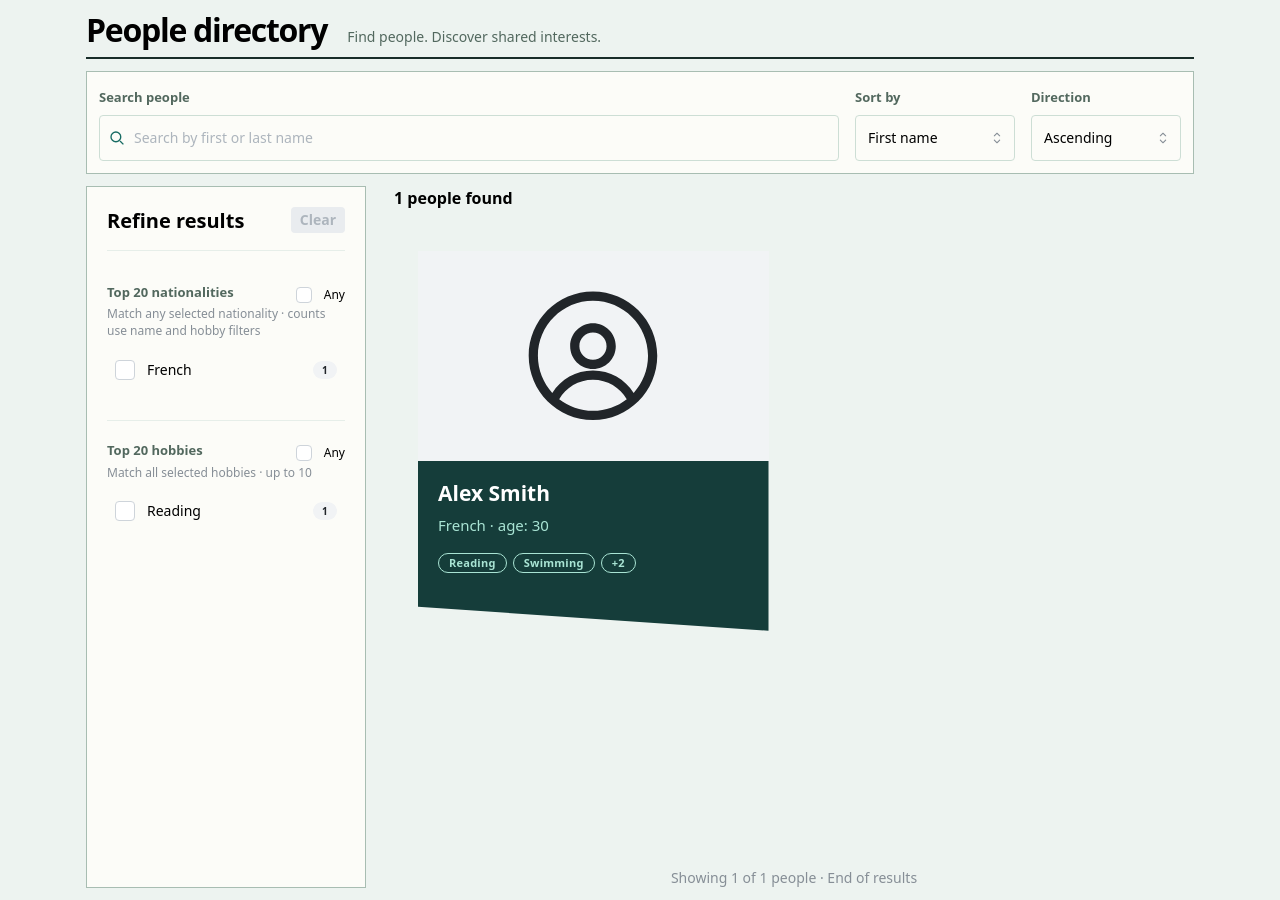
Test: Any clears only its filter group and collapses the options
The width and height of the screenshot is (1280, 900).
Expected: the element showing "Alex Smith French · age: 30 Reading Swimming +2" is shown, [418,251,768,631]
Expected: the checkbox named "Any nationality" is not checked, [296,287,312,303]
Click the checkbox labelled "French".
click(125, 370)  # box [115,360,135,380]
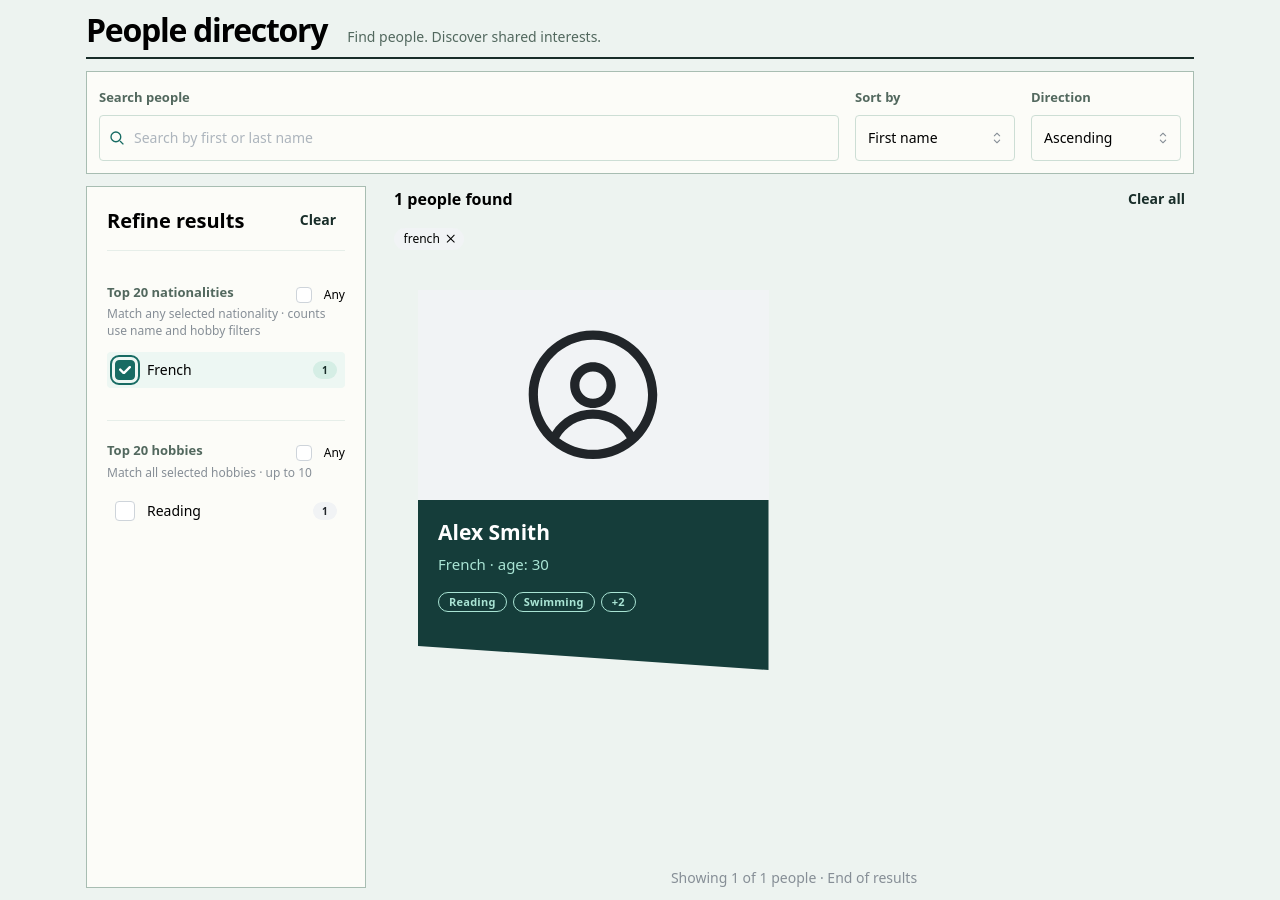
Click the checkbox labelled "Reading".
click(125, 511)  # box [115,501,135,521]
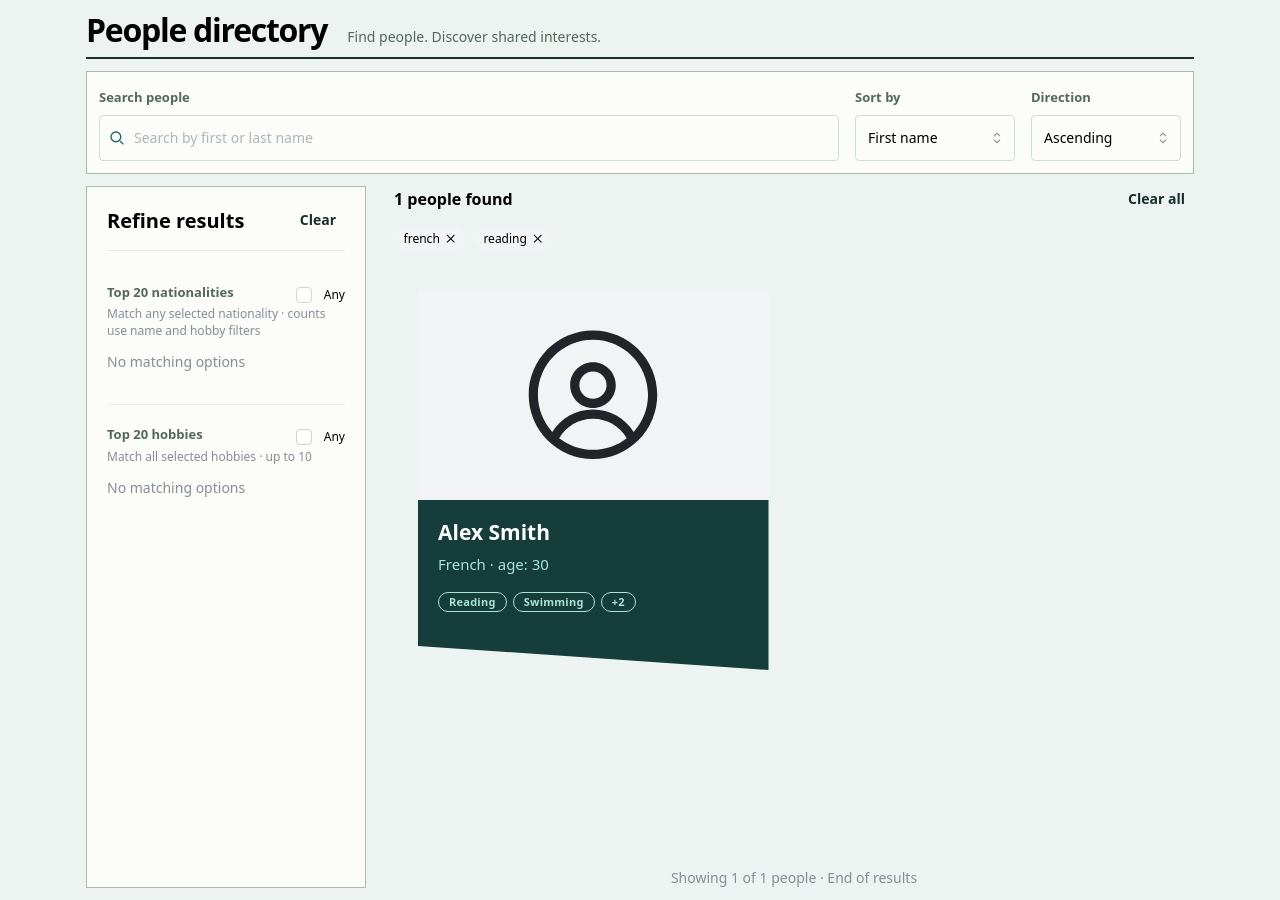
Click the checkbox named "Any hobbies".
click(304, 437)  # box [296,429,312,445]
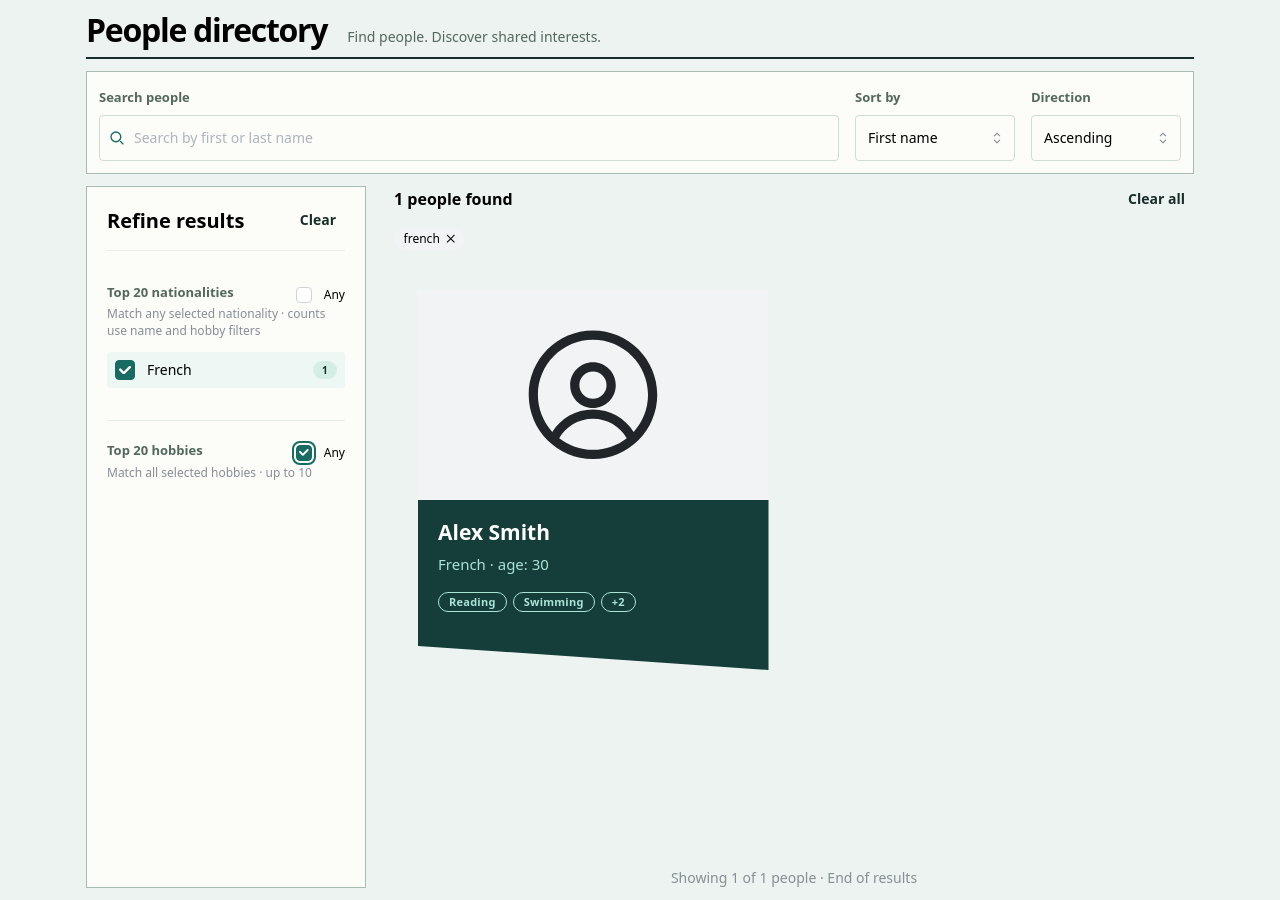
Click the checkbox named "Any nationality".
click(304, 295)  # box [296,287,312,303]
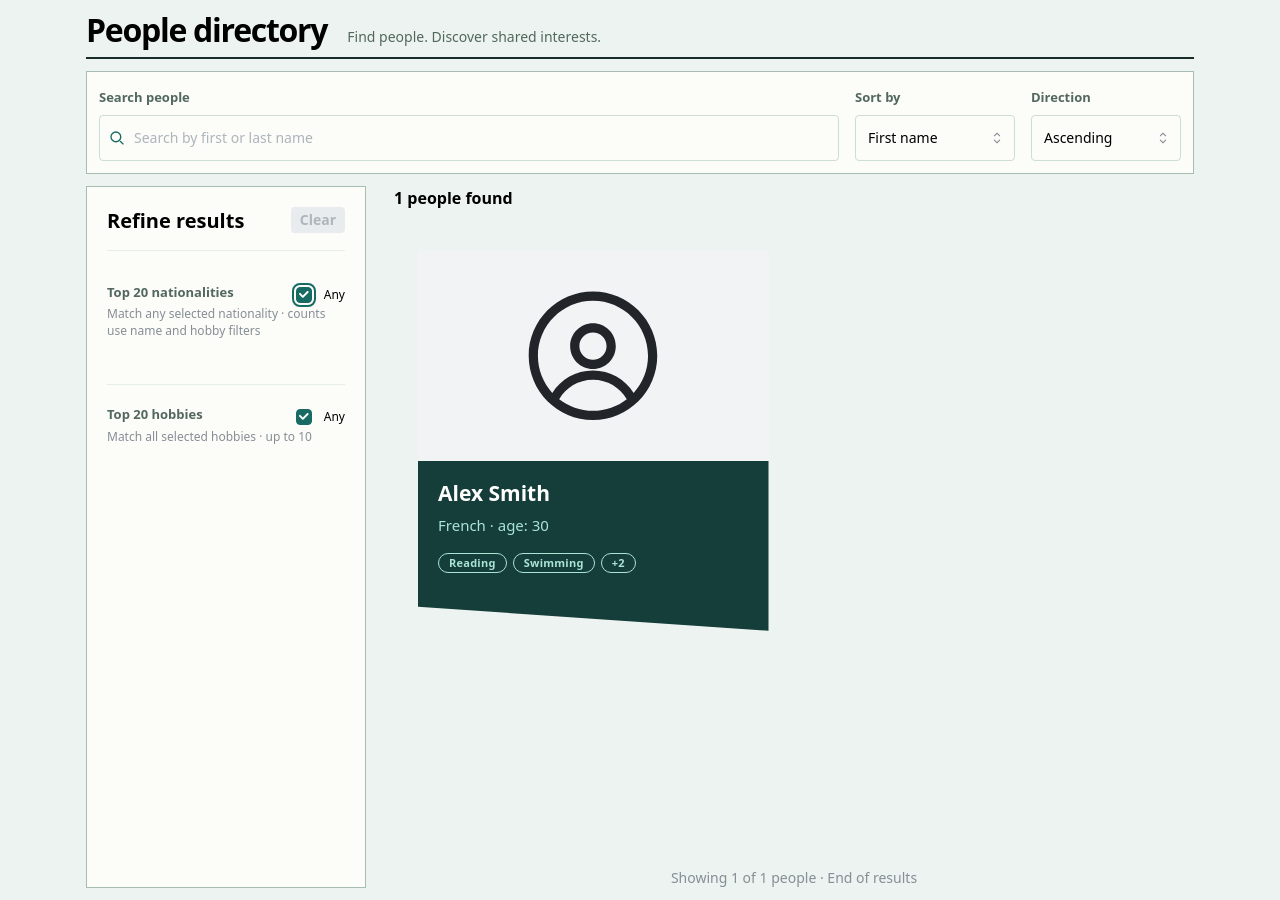
Click the checkbox named "Any nationality".
click(304, 295)  # box [296,287,312,303]
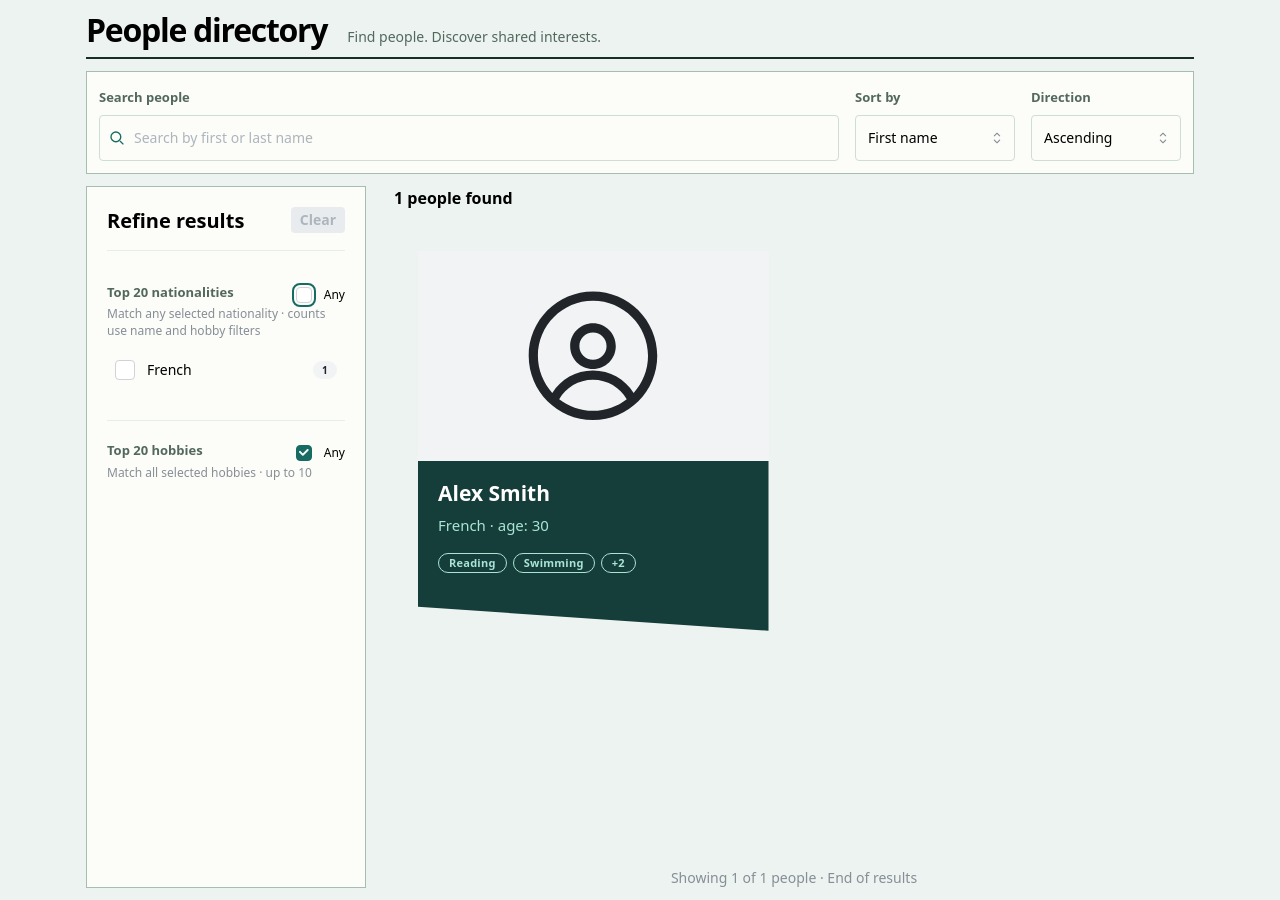
Now the checkbox labelled "French" is shown, box [115,360,135,380]
